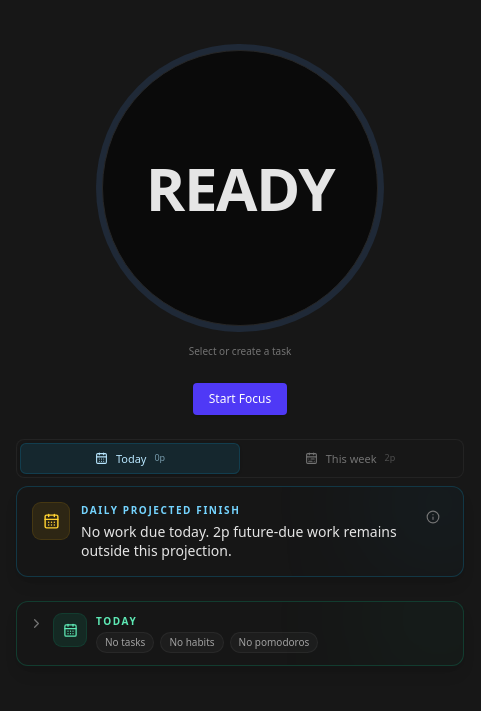
Test: TimerPanel projected finish › discloses future-due work instead of claiming the day is complete
The image size is (481, 711).
expect the text "No work due today. 2p future-due work remains outside this projection." is shown: met, box [81,522,407,560]
Click the button named "Info" at [433, 517], box [419,503,447,531]
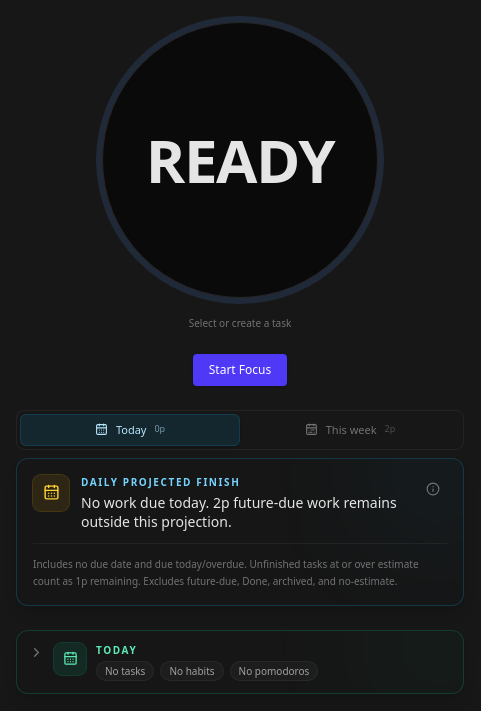
expect the text "Includes no due date and due today/overdue. Unfinished tasks at or over estimate count as 1p remaining. Excludes future-" is shown: met, box [33,557,418,588]
